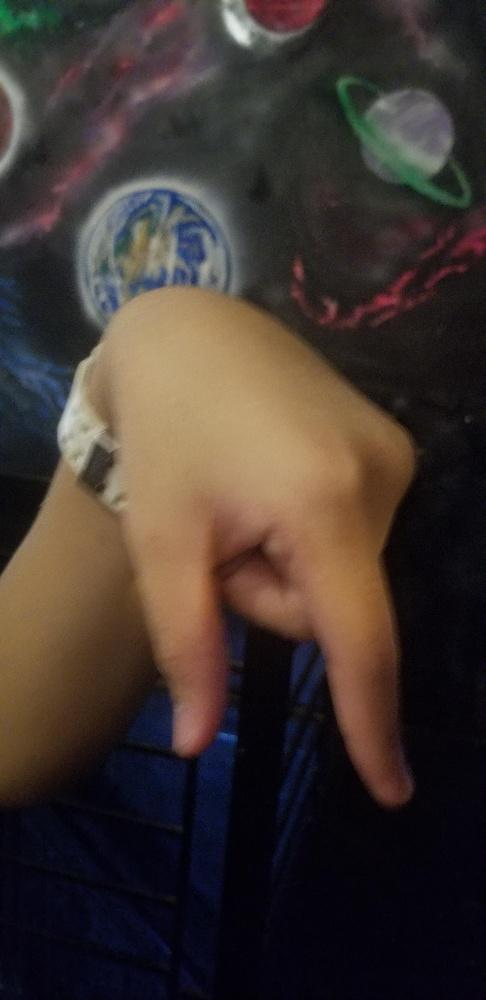q: (103, 281, 426, 808)
